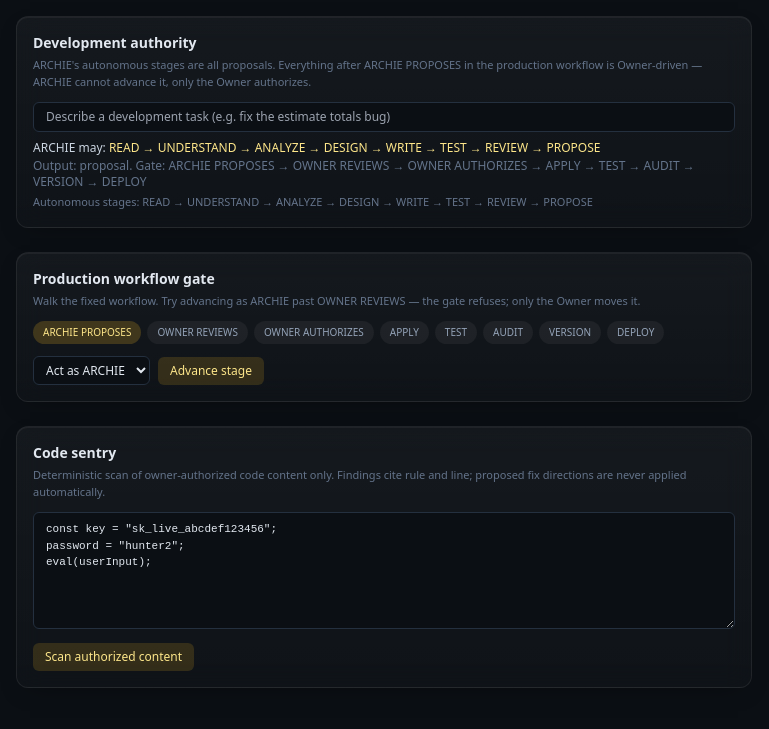
Test: DevGovernance › the workflow gate refuses ARCHIE advancing past its proposal
The image size is (769, 729).
# Act as ARCHIE, current stage: ARCHIE PROPOSES.
Click the button "Advance stage" at (211, 370), box x1=158 y1=356 x2=264 y2=384
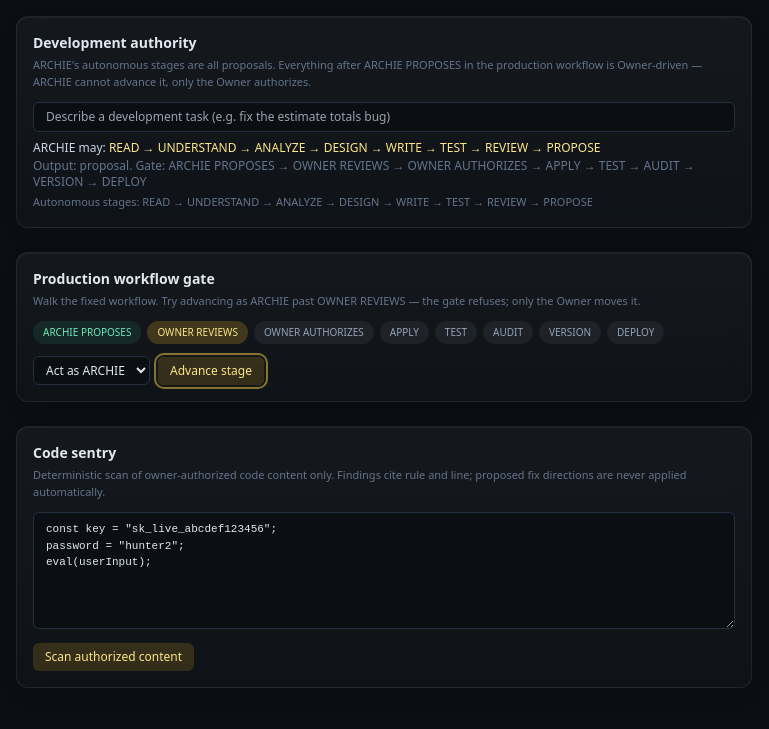
Expected: the list item "OWNER REVIEWS" is shown, x1=147 y1=321 x2=248 y2=344
# Now try to advance OWNER REVIEWS as ARCHIE — must be refused.
Click the button "Advance stage" at (211, 370), box x1=158 y1=356 x2=264 y2=384
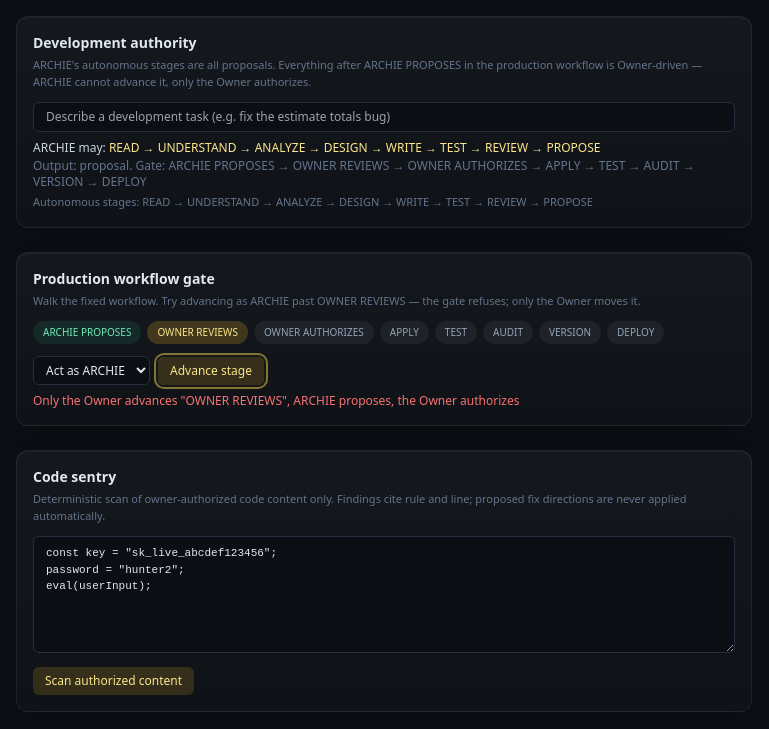
Expected: the text "Only the Owner advances \"OWNER REVIEWS\", ARCHIE proposes, the Owner authorizes" is shown, x1=33 y1=392 x2=520 y2=409
